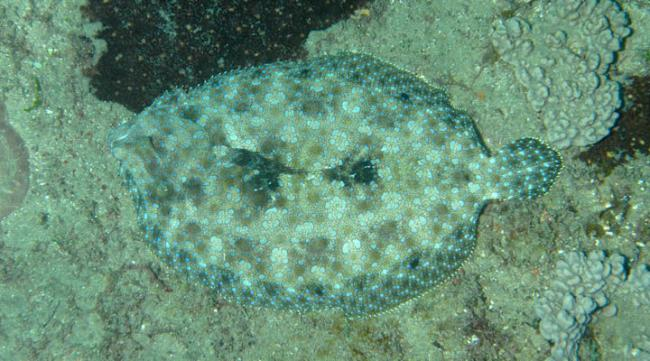fish: (111, 53, 567, 312)
